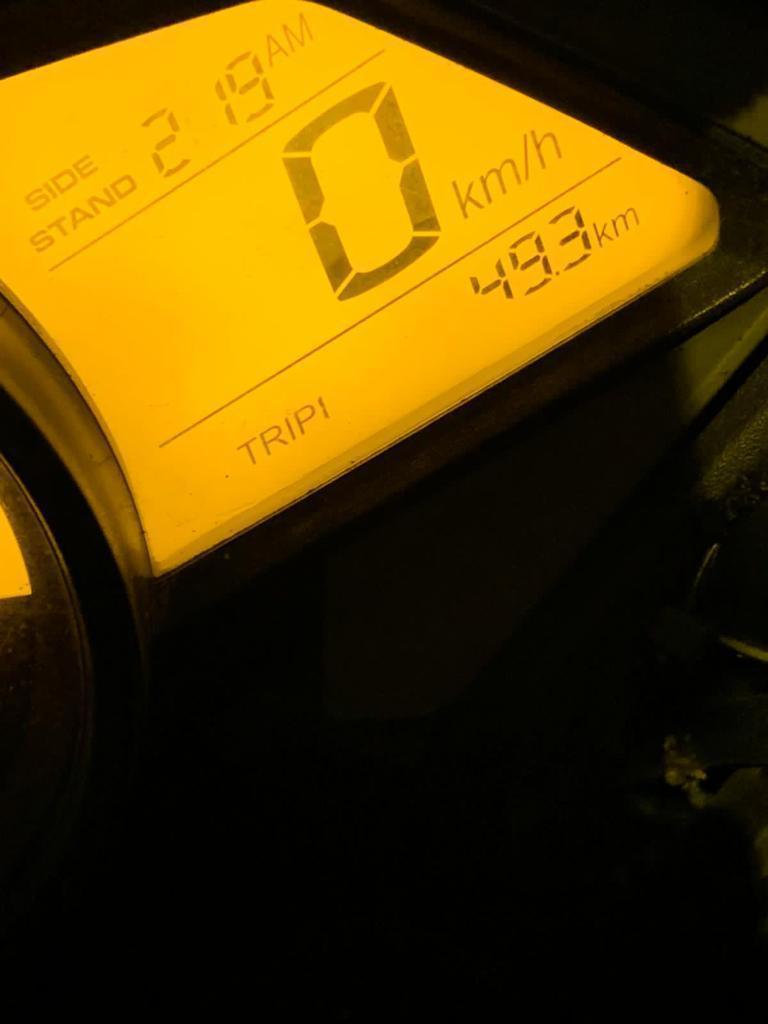0: (273, 72, 445, 305)
1: (206, 77, 240, 130), (315, 391, 335, 423)
2: (140, 102, 194, 179)
3: (548, 201, 594, 274)
4: (465, 254, 513, 309)
9: (223, 48, 276, 123), (505, 228, 554, 297)
X: (481, 156, 521, 202), (529, 125, 564, 172), (449, 172, 482, 219), (281, 11, 315, 55), (611, 205, 641, 238), (261, 30, 287, 67), (258, 424, 285, 457), (86, 186, 116, 215), (234, 433, 259, 467), (49, 167, 78, 196), (109, 173, 140, 200), (589, 216, 614, 249), (72, 149, 96, 182), (294, 402, 315, 439), (28, 228, 56, 255), (519, 131, 533, 183), (22, 186, 48, 214), (68, 202, 93, 231), (48, 215, 69, 239), (282, 414, 297, 446), (42, 180, 60, 201)
odometer: (0, 0, 719, 602)
